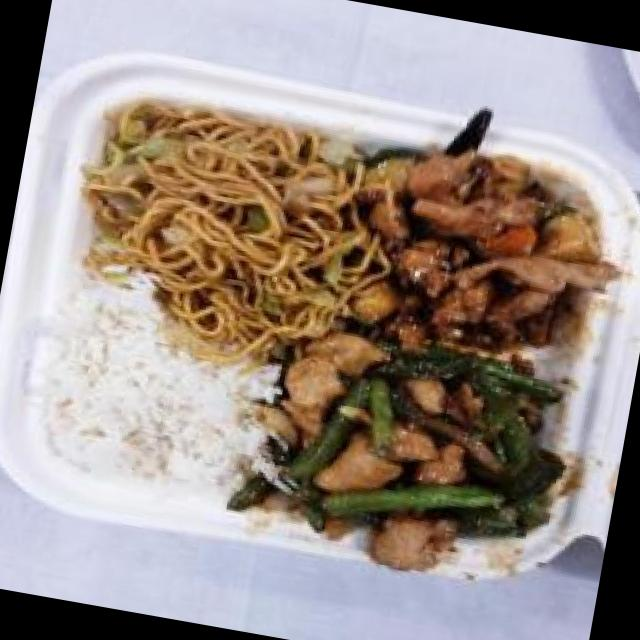Chow Mein: (64, 83, 383, 352)
Kung Pao Chicken: (344, 127, 624, 370)
String Bean Chicken Breast: (245, 306, 593, 584)
White Steamed Rice: (25, 284, 282, 506)
